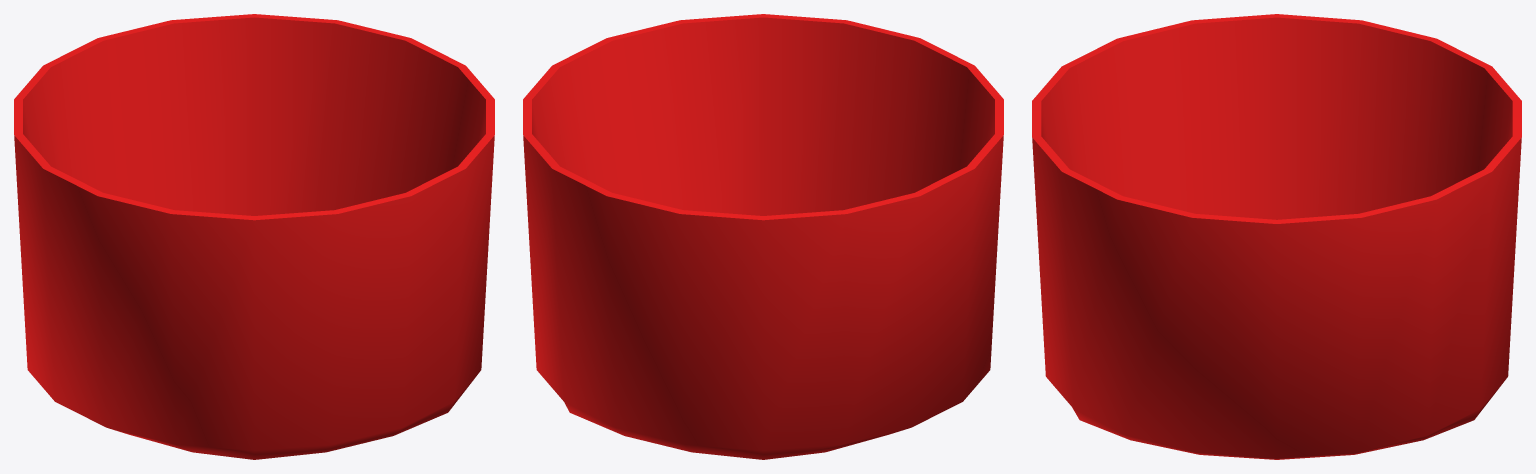
The model's file is SM_Sterilization_Container_14.FBX.
3 views of the same model, side by side, from view 1: azimuth 30°, elevation 25°; view 2: azimuth 150°, elevation 25°; view 3: azimuth 270°, elevation 25° (orthographic).
Visible parts, largest first — view 1: Sterilization_Container_14; view 2: Sterilization_Container_14; view 3: Sterilization_Container_14.
Part boxes in pixels (<box>): Sterilization_Container_14: <box>14,14,494,459</box>; Sterilization_Container_14: <box>523,14,1003,459</box>; Sterilization_Container_14: <box>1032,14,1521,459</box>.
Bounding box in the file's own units: 7.75 × 4.48 × 7.63.
